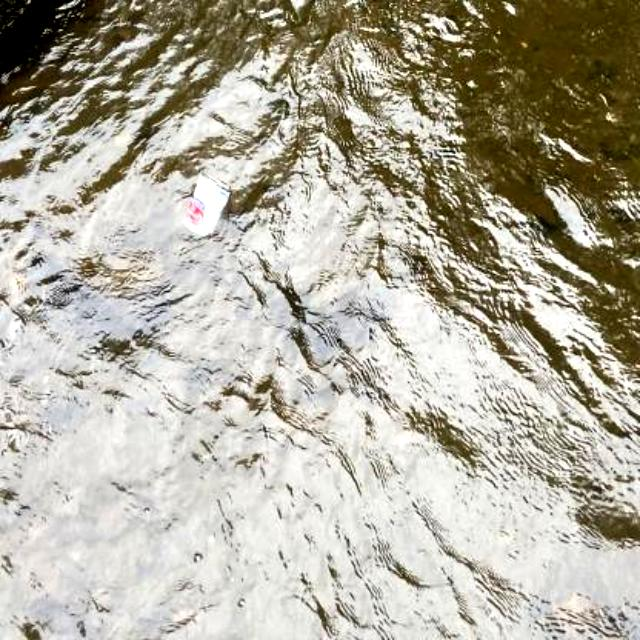Metal: (178, 168, 232, 244)
